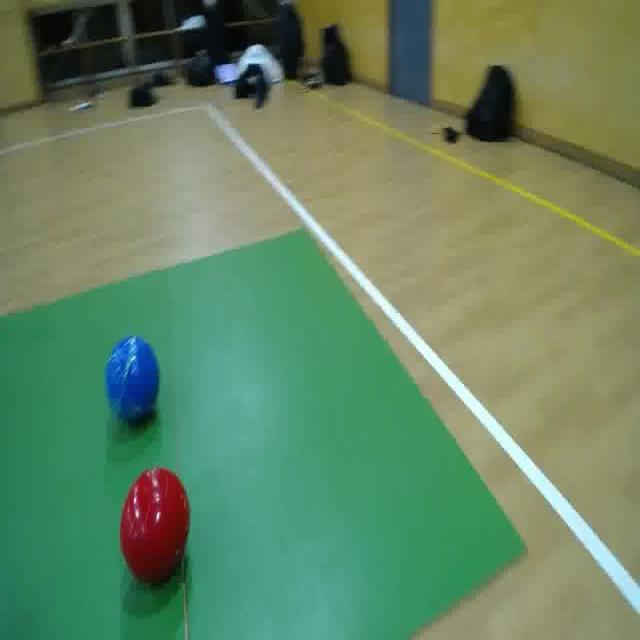blue_ball: (100, 332, 162, 432)
red_ball: (118, 463, 194, 591)
